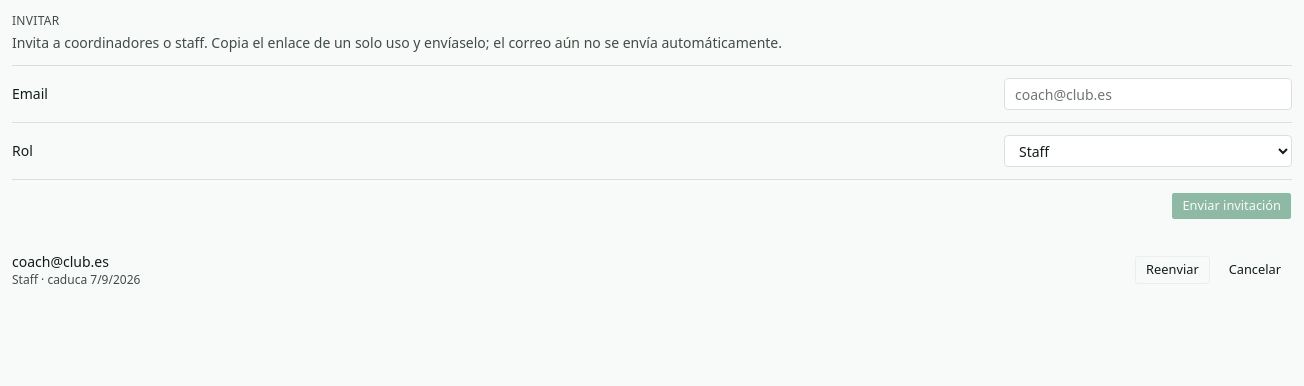
Scenario: StaffInvitesSection accept URL › replaces the accept URL after resend
Click the button "Reenviar" at coordinates (1172, 270), box [1135,256,1210,284]
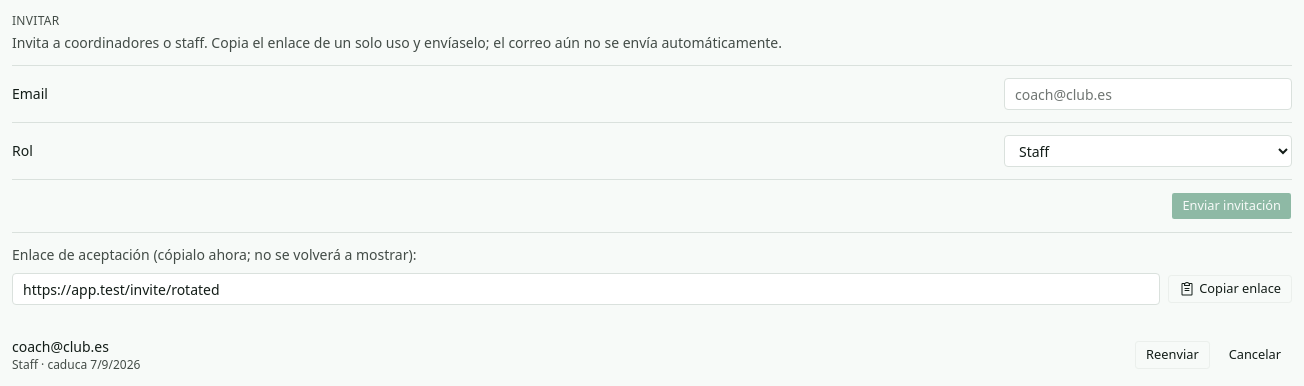
Now the field named "Enlace de aceptación" holds "https://app.test/invite/rotated", box [12,273,1160,305]
